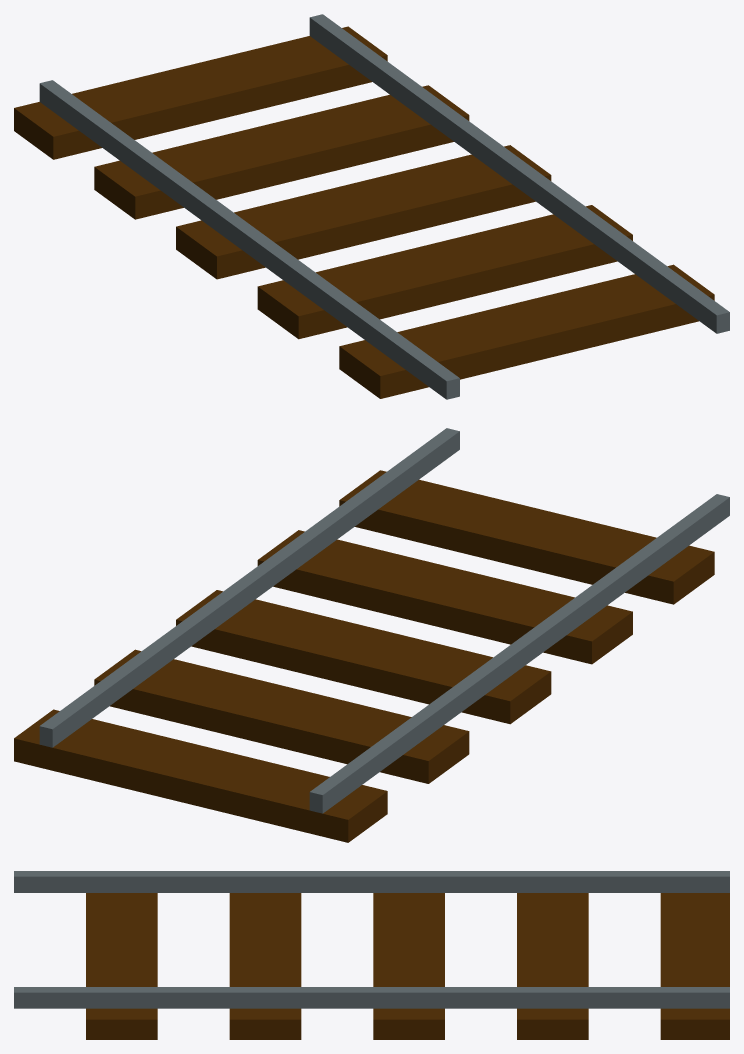
File: RailRoad.fbx
The picture shows the model from 3 angles, top to bottom: view 1: azimuth 30°, elevation 25°; view 2: azimuth 150°, elevation 25°; view 3: azimuth 270°, elevation 25°; orthographic projection. The views are drawn at different scales.
Visible parts, largest first — view 1: Cube.003; view 2: Cube.003; view 3: Cube.003.
Boxes of the visible parts, x1,y1,x2,y2 form: Cube.003: (14, 14, 729, 399); Cube.003: (14, 428, 729, 842); Cube.003: (14, 871, 729, 1039).
Bounding box in the file's own units: 180 × 21.32 × 379.
Materials: 1 (1 with a texture image).
